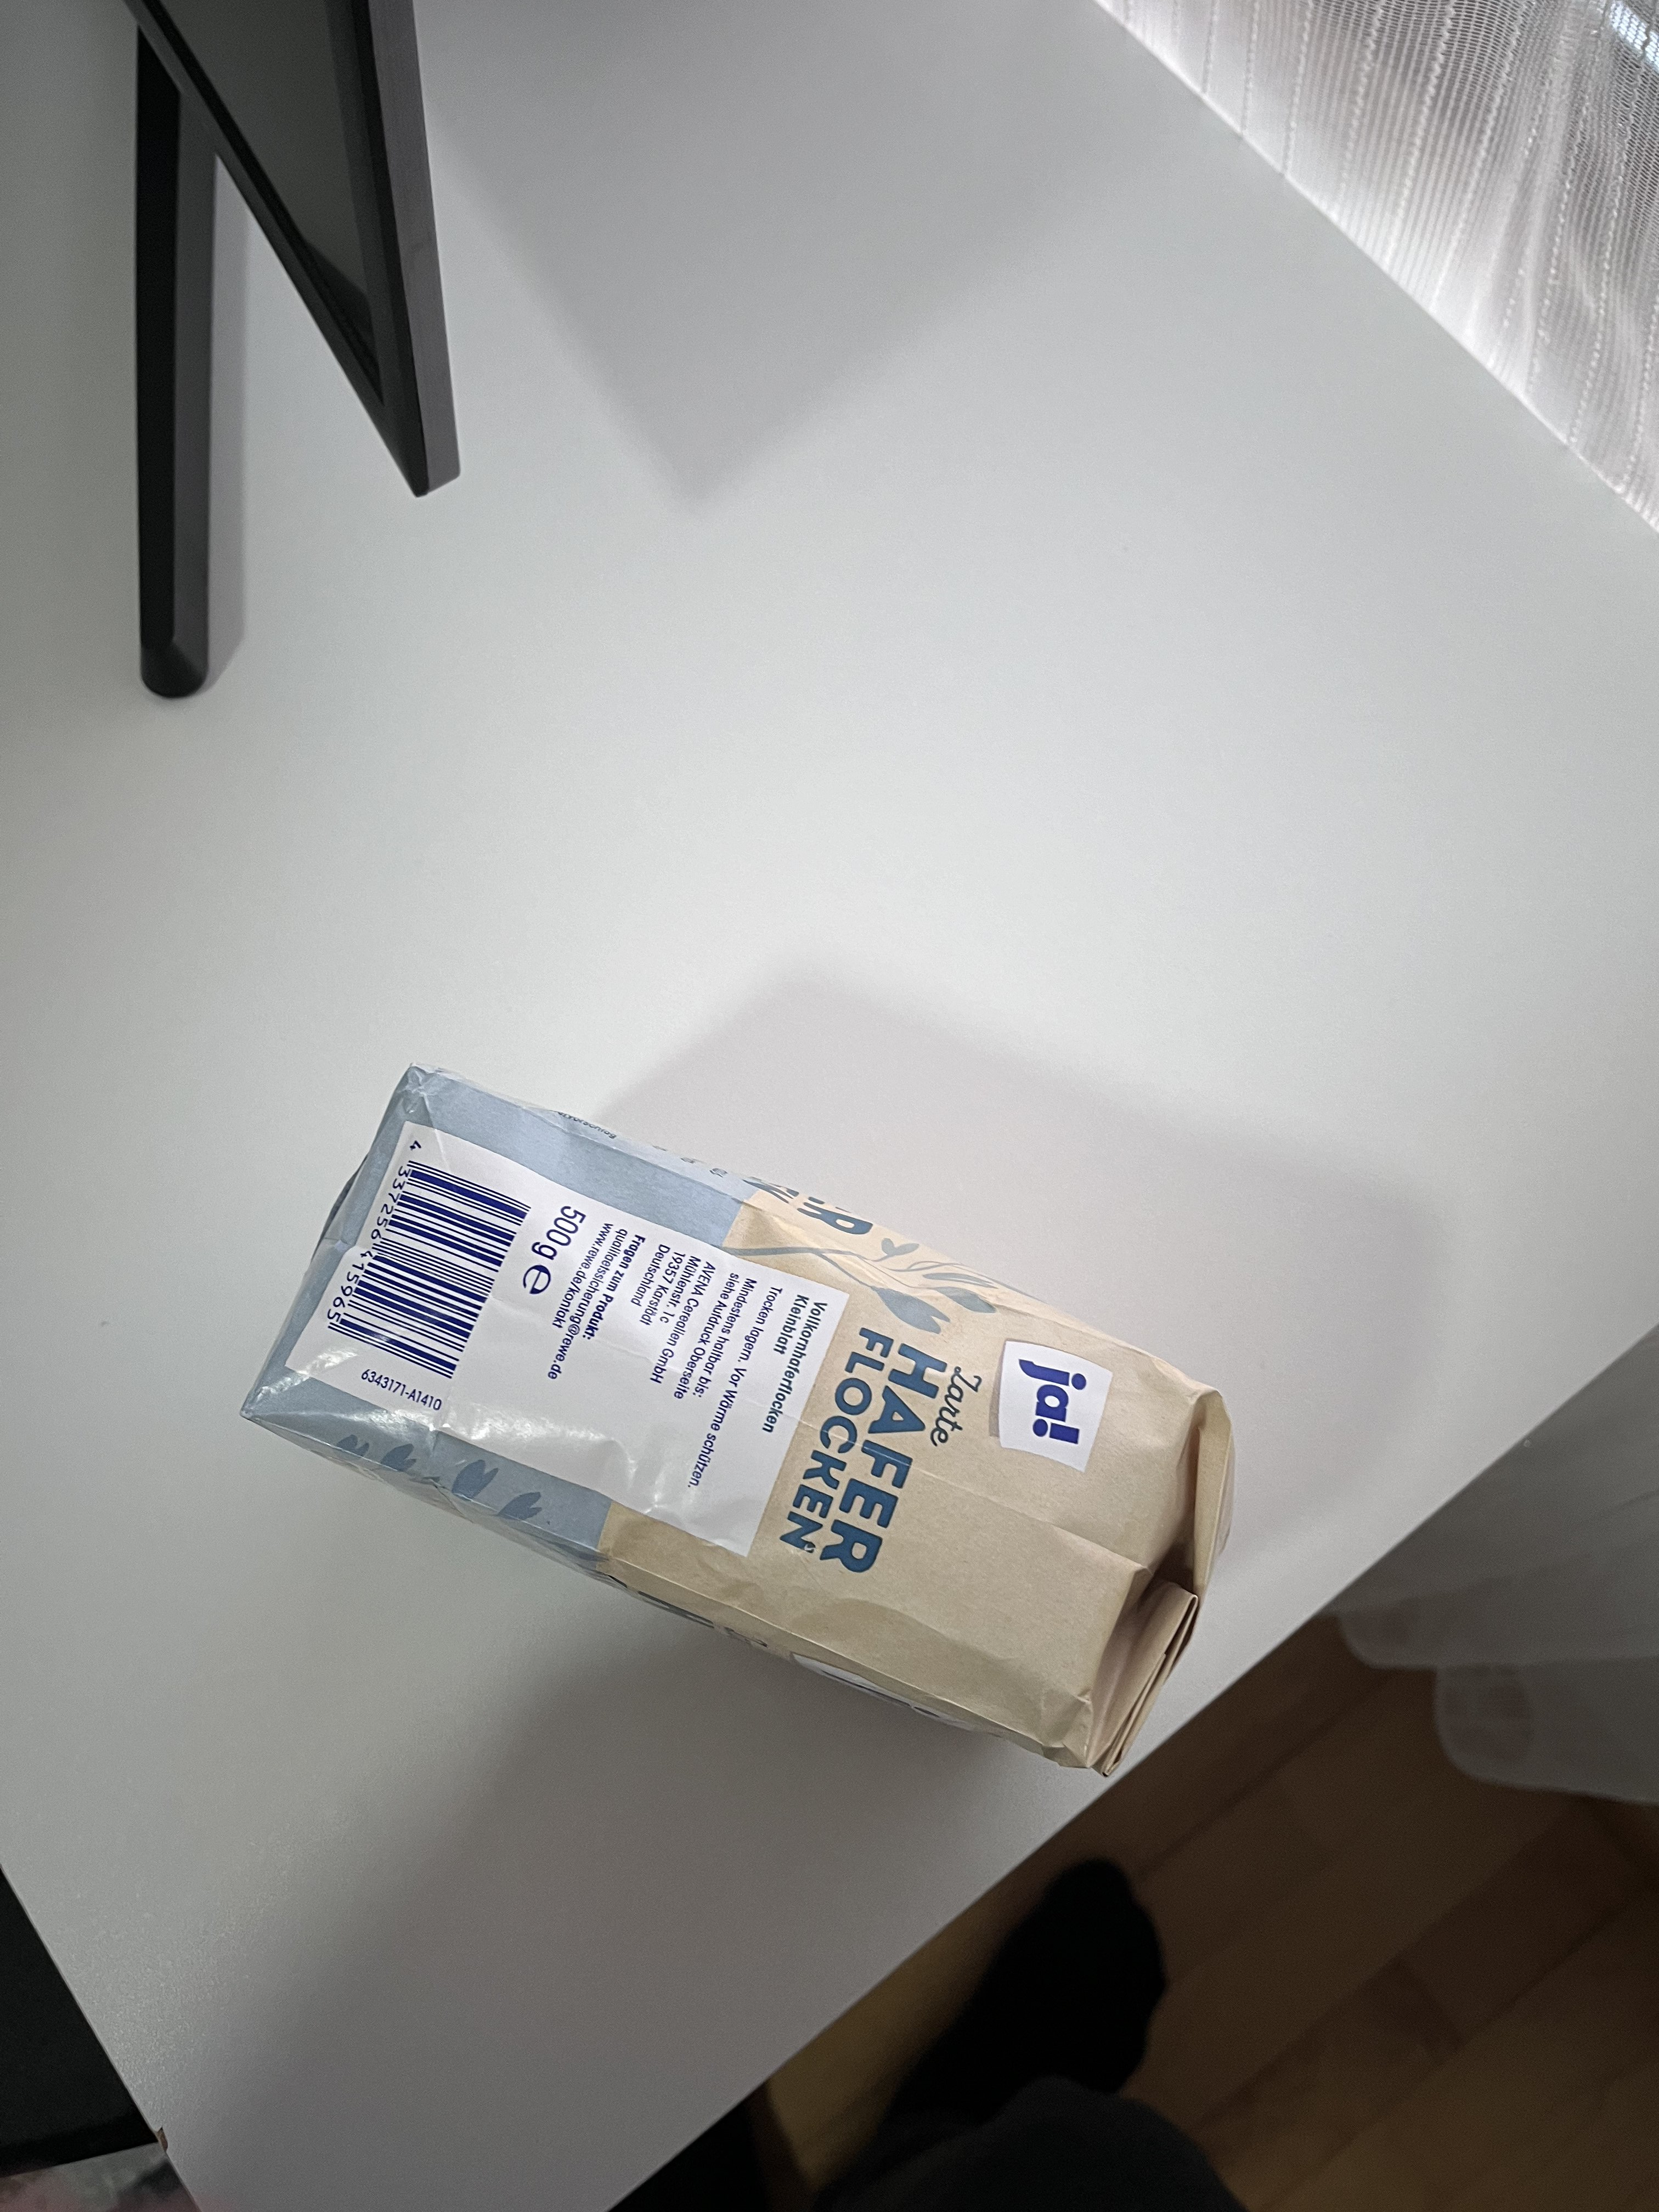haferflocken_ja: (239, 1062, 1237, 1778)
